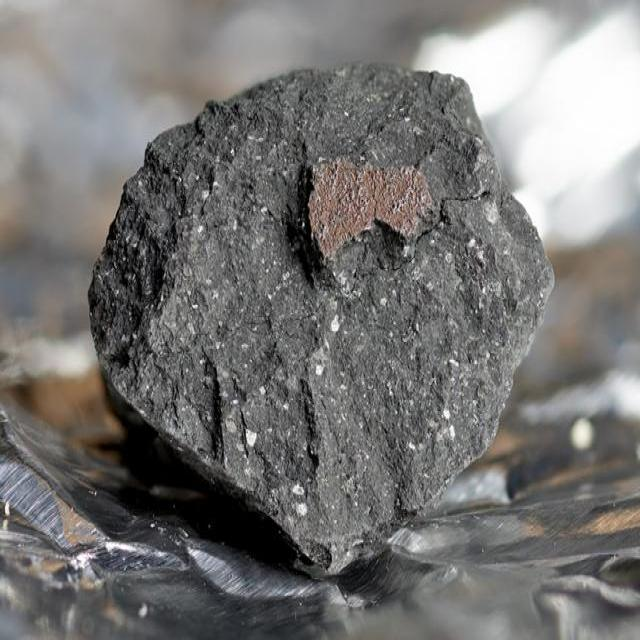Pecahan Agregat: (97, 36, 570, 590)
